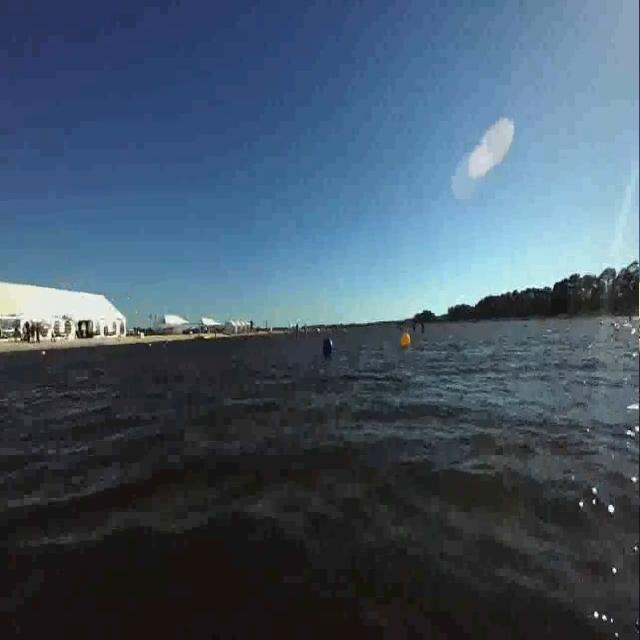black-buoy: (319, 334, 337, 362)
blue-buoy: (320, 337, 338, 362)
yellow-buoy: (398, 328, 417, 350)
